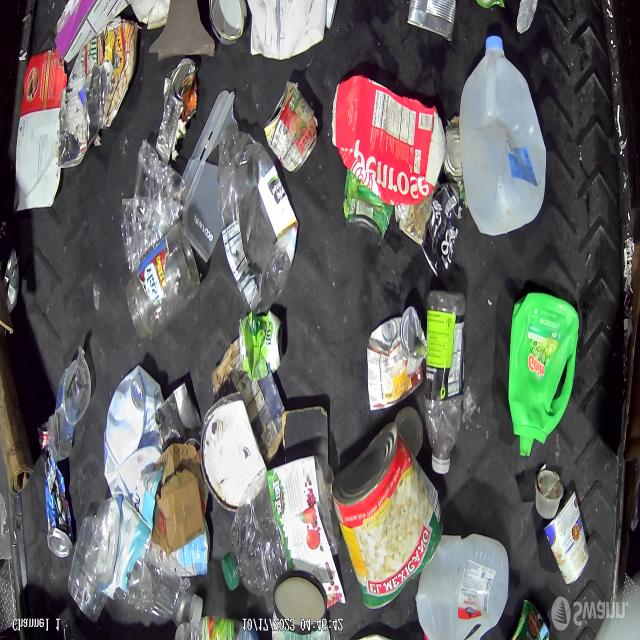can: (332, 422, 444, 609), (367, 303, 427, 412), (264, 82, 318, 174), (542, 489, 590, 587), (343, 168, 394, 248), (421, 181, 462, 278), (43, 459, 76, 561), (155, 382, 203, 451), (239, 310, 284, 381), (407, 0, 457, 43)
milk_jug: (460, 36, 546, 236), (416, 530, 510, 640)
non_white_jug: (509, 292, 578, 458)
plastic_bottle: (220, 121, 301, 313), (87, 501, 199, 627), (421, 295, 468, 473)
